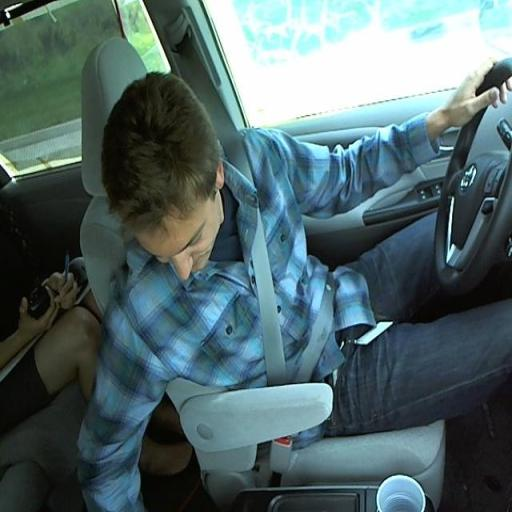turning: (93, 68, 512, 419)
